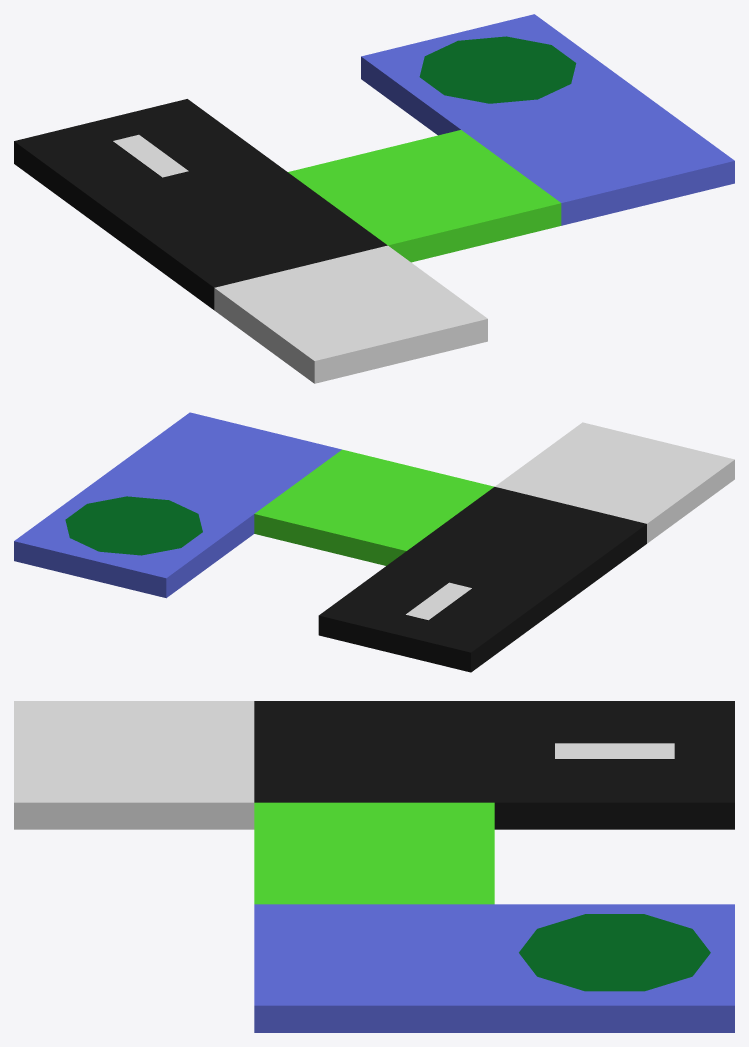
The model's file is meshlib.glb.
3 views of the same model, one above another, from view 1: azimuth 30°, elevation 25°; view 2: azimuth 150°, elevation 25°; view 3: azimuth 270°, elevation 25° (orthographic). The views are drawn at different scales.
Parts seen in each view (by area): view 1: Base, Water, Grass, RoadLine, Road1, WaterLilypad; view 2: WaterLilypad, RoadLine, Grass, Road1, Base, Water; view 3: Base, RoadLine, Water, WaterLilypad, Grass, Road1.
Part boxes in pixels (x1,y1,x2,y2): Base: (214,245,487,383); Water: (461,87,734,225); Grass: (288,130,561,262); RoadLine: (14,99,287,236); Road1: (114,172,387,309); WaterLilypad: (361,14,634,135); WaterLilypad: (14,477,254,598); RoadLine: (318,551,558,672); Grass: (254,449,494,565); Road1: (407,487,646,607); Base: (495,422,734,543); Water: (102,412,341,513); Base: (14,701,254,829); RoadLine: (494,701,734,829); Water: (254,904,494,1032); WaterLilypad: (494,904,734,1032); Grass: (254,802,494,904); Road1: (254,701,494,802).
Size of the model in its own units: 6 by 0.2758 by 6.
